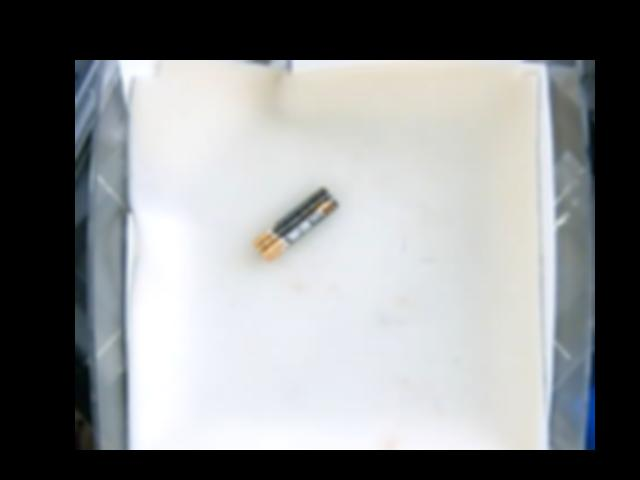Battery: (252, 184, 338, 259)
